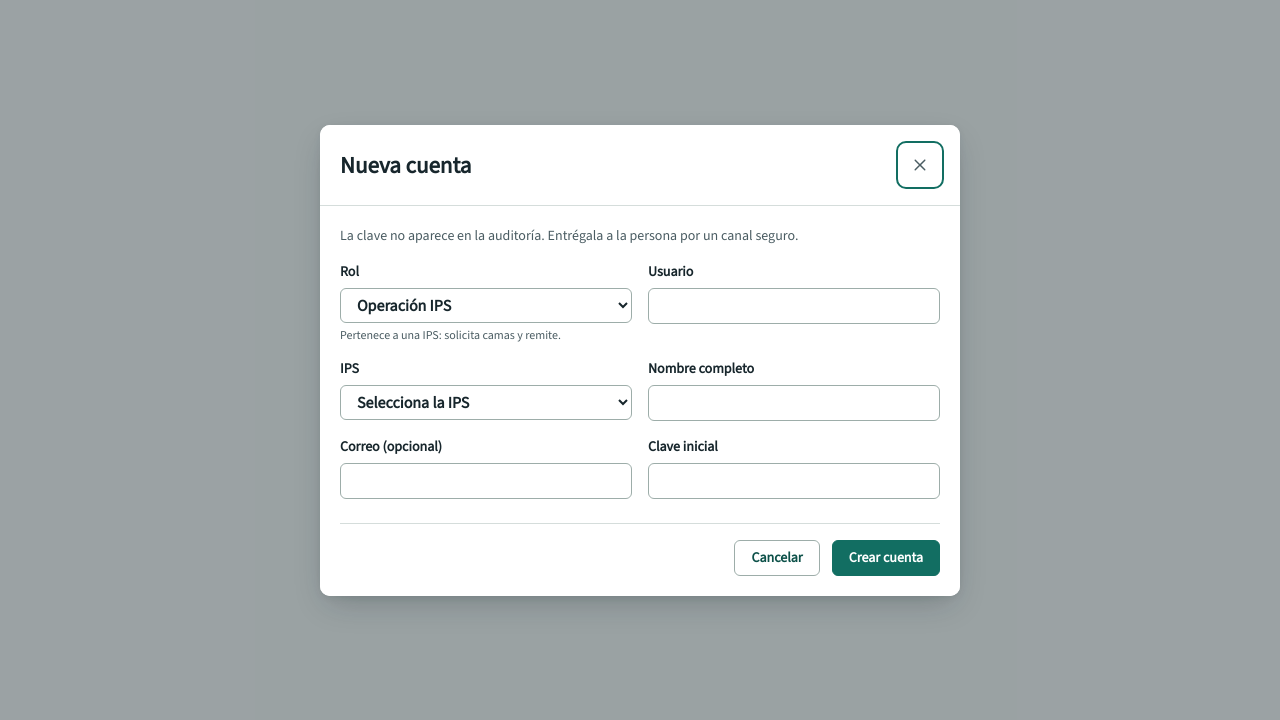
Test: explains a duplicate user and a wrong organization in the form
Select "Contable" in the dropdown labelled "Rol" at (486, 305), box left=340, top=288, right=632, bottom=322
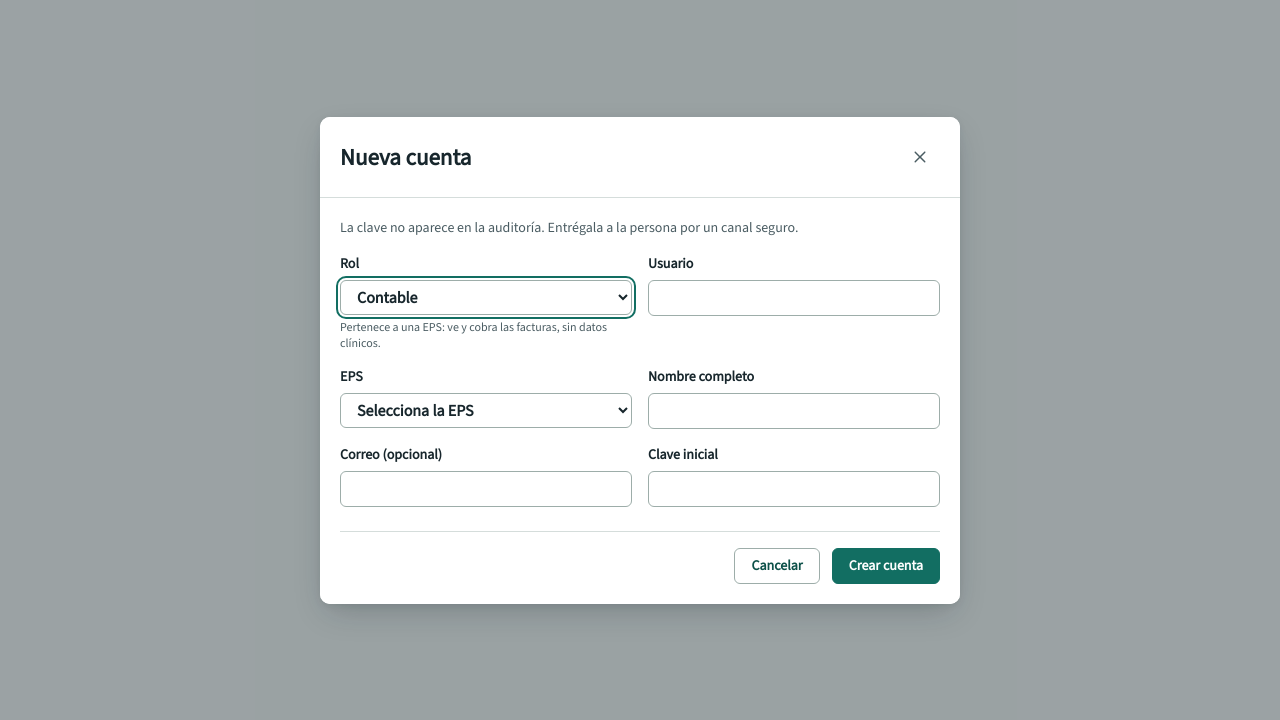
Select "EPS SaludRed" in the dropdown labelled "EPS" at (486, 410), box left=340, top=392, right=632, bottom=428
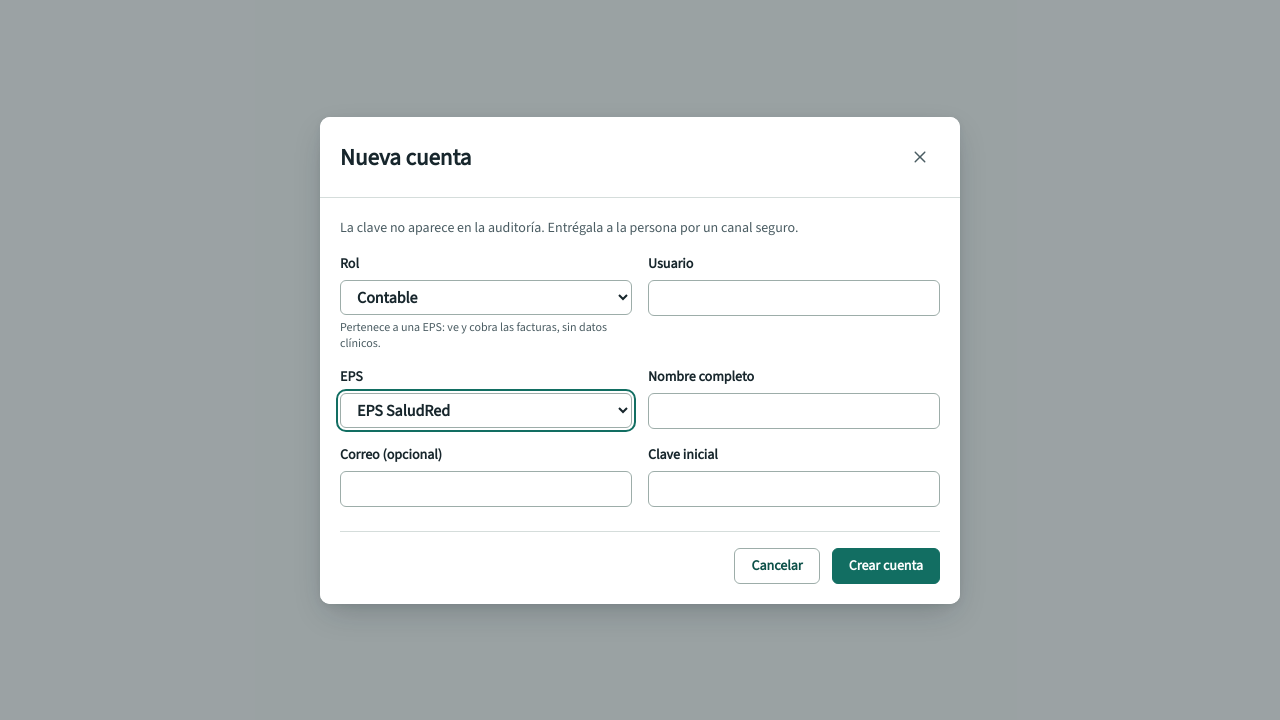
Type "contable.eps" into the field labelled "Usuario" at (794, 298), box left=648, top=280, right=940, bottom=316
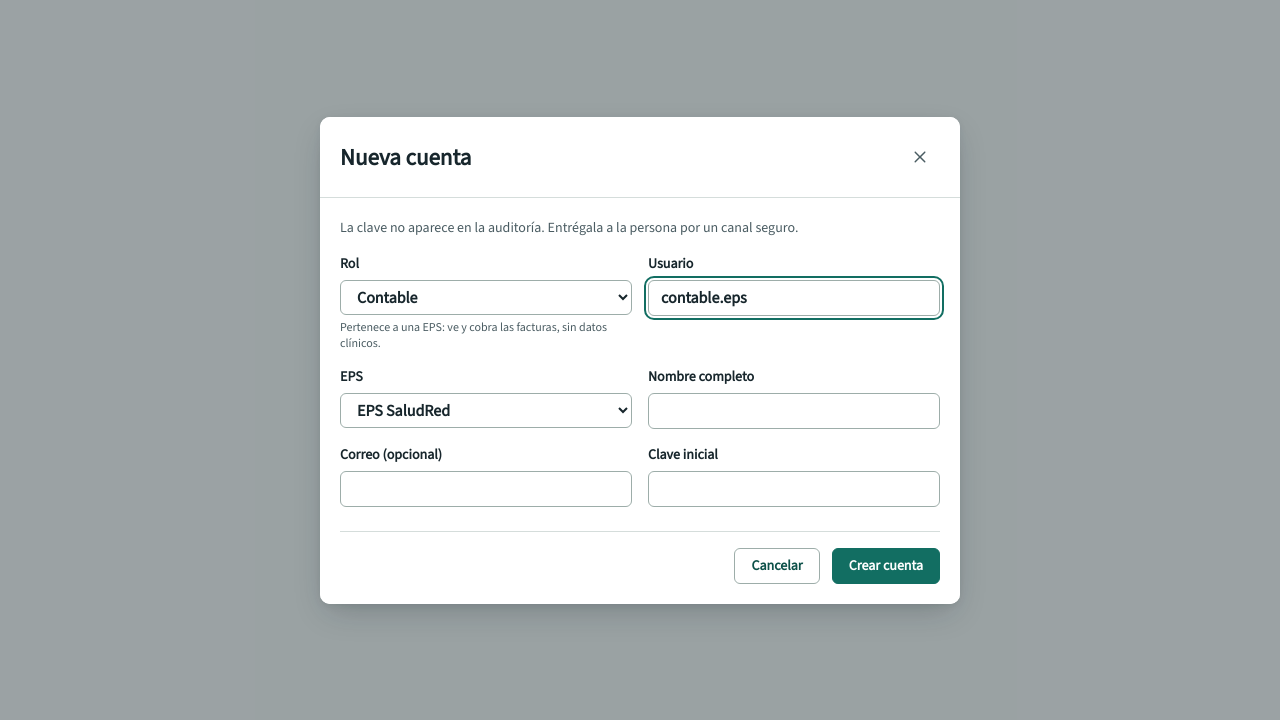
Type "Luis Pérez" into the field labelled "Nombre completo" at (794, 410), box left=648, top=392, right=940, bottom=428
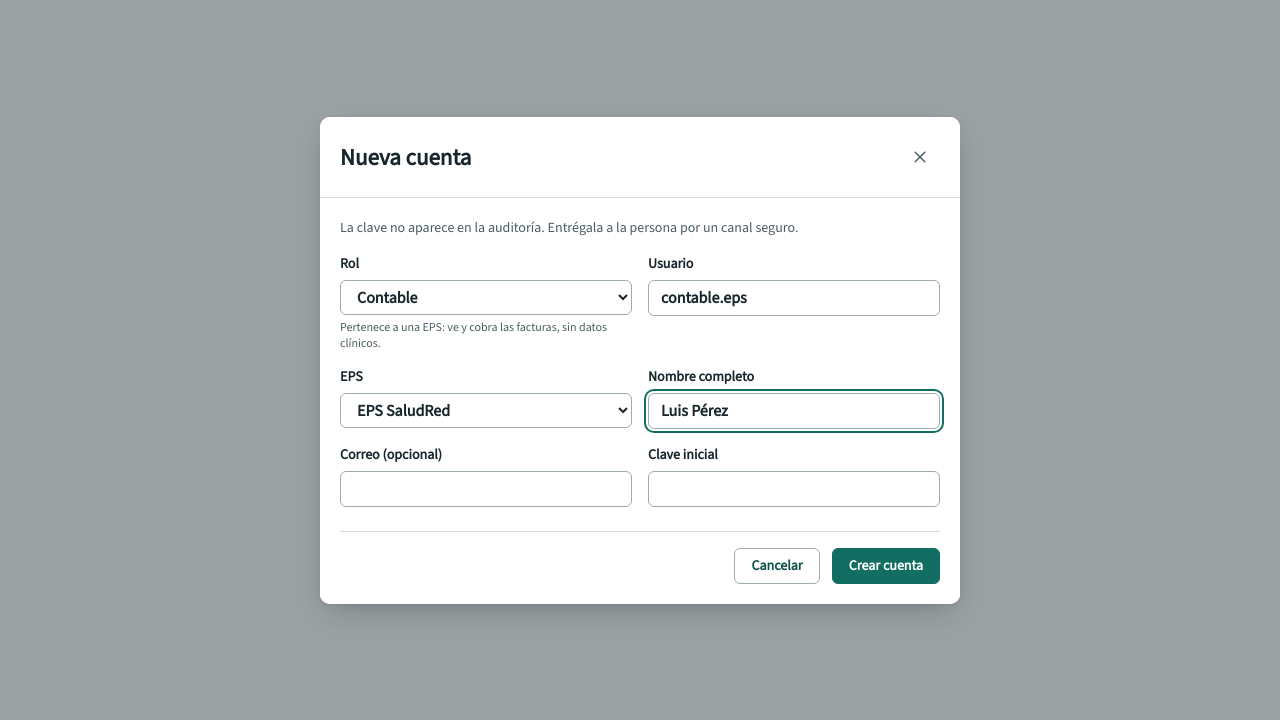
Type "Demo2026!" into the password field labelled "Clave inicial" at (794, 488), box left=648, top=470, right=940, bottom=506
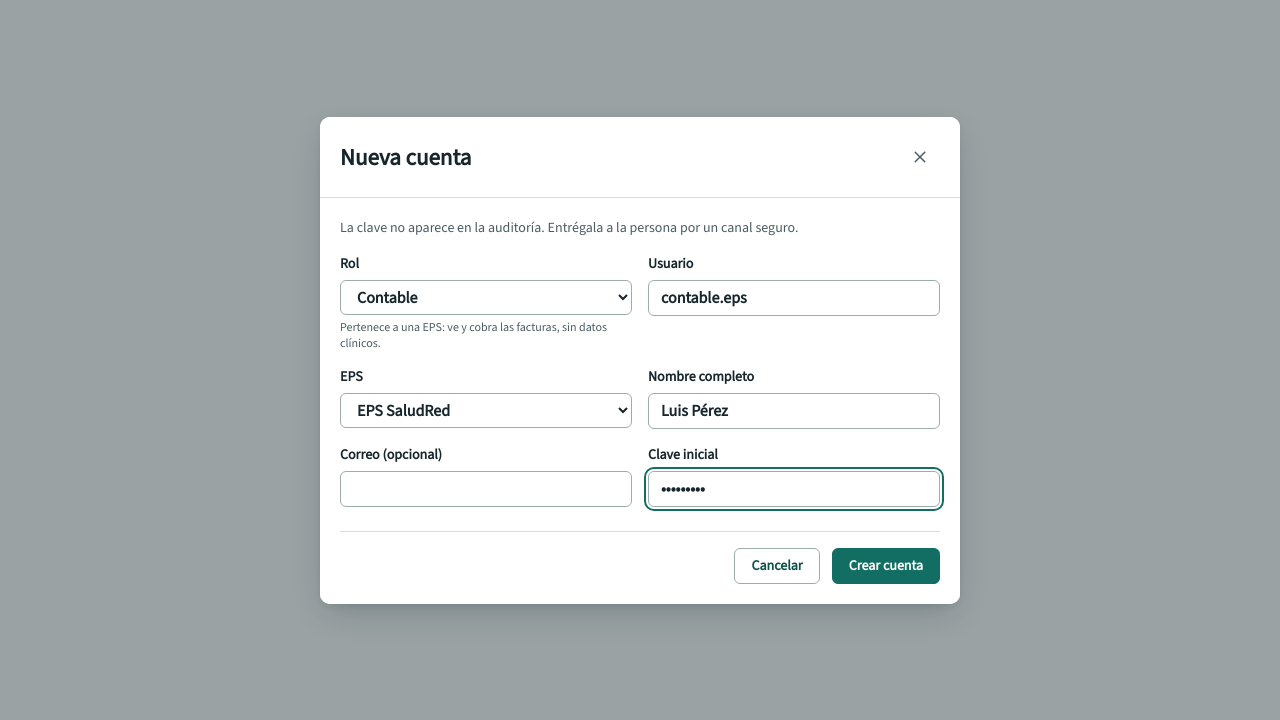
Click the button "Crear cuenta" at (886, 566), box left=832, top=548, right=940, bottom=584
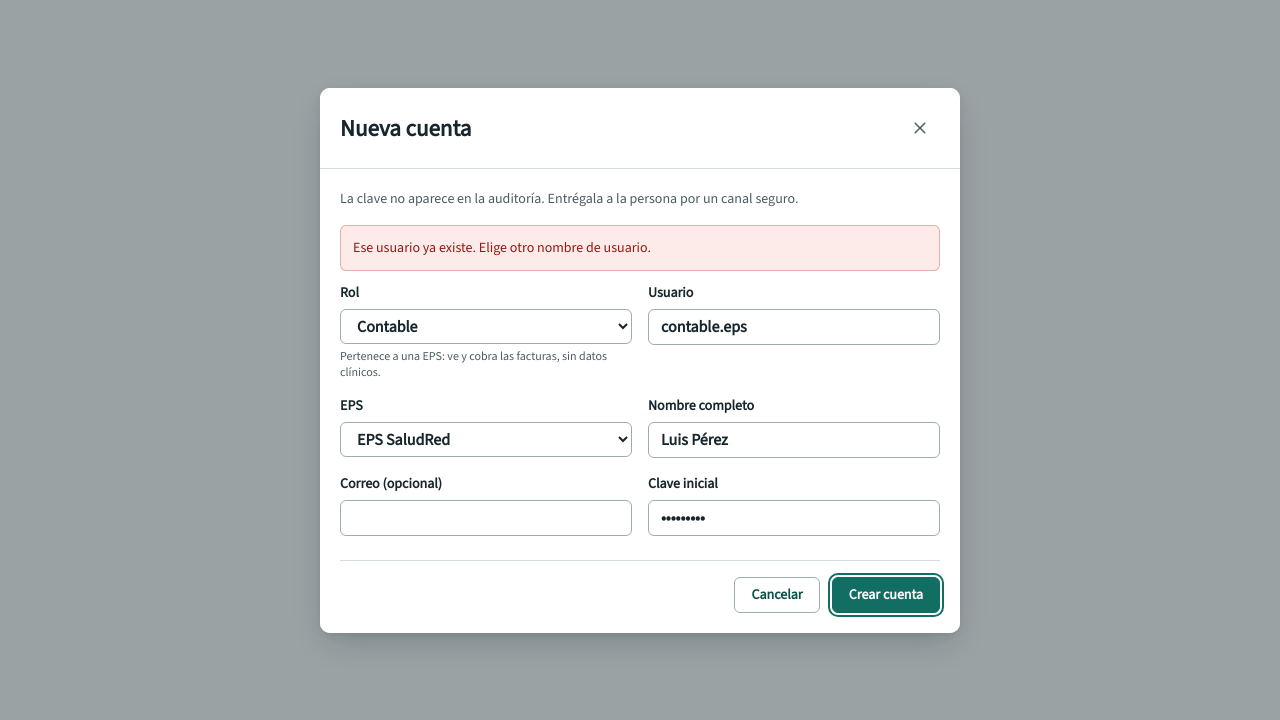
Now the message reads "Ese usuario ya existe. Elige otro nombre de usuario.", box left=353, top=238, right=651, bottom=256
